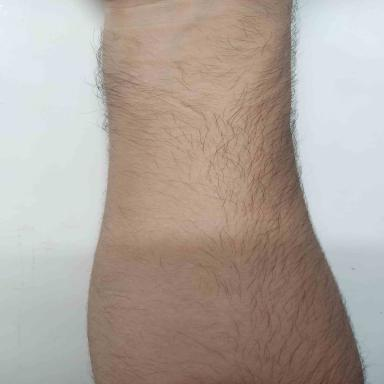normal skin: (88, 0, 364, 384), (145, 137, 147, 137)
